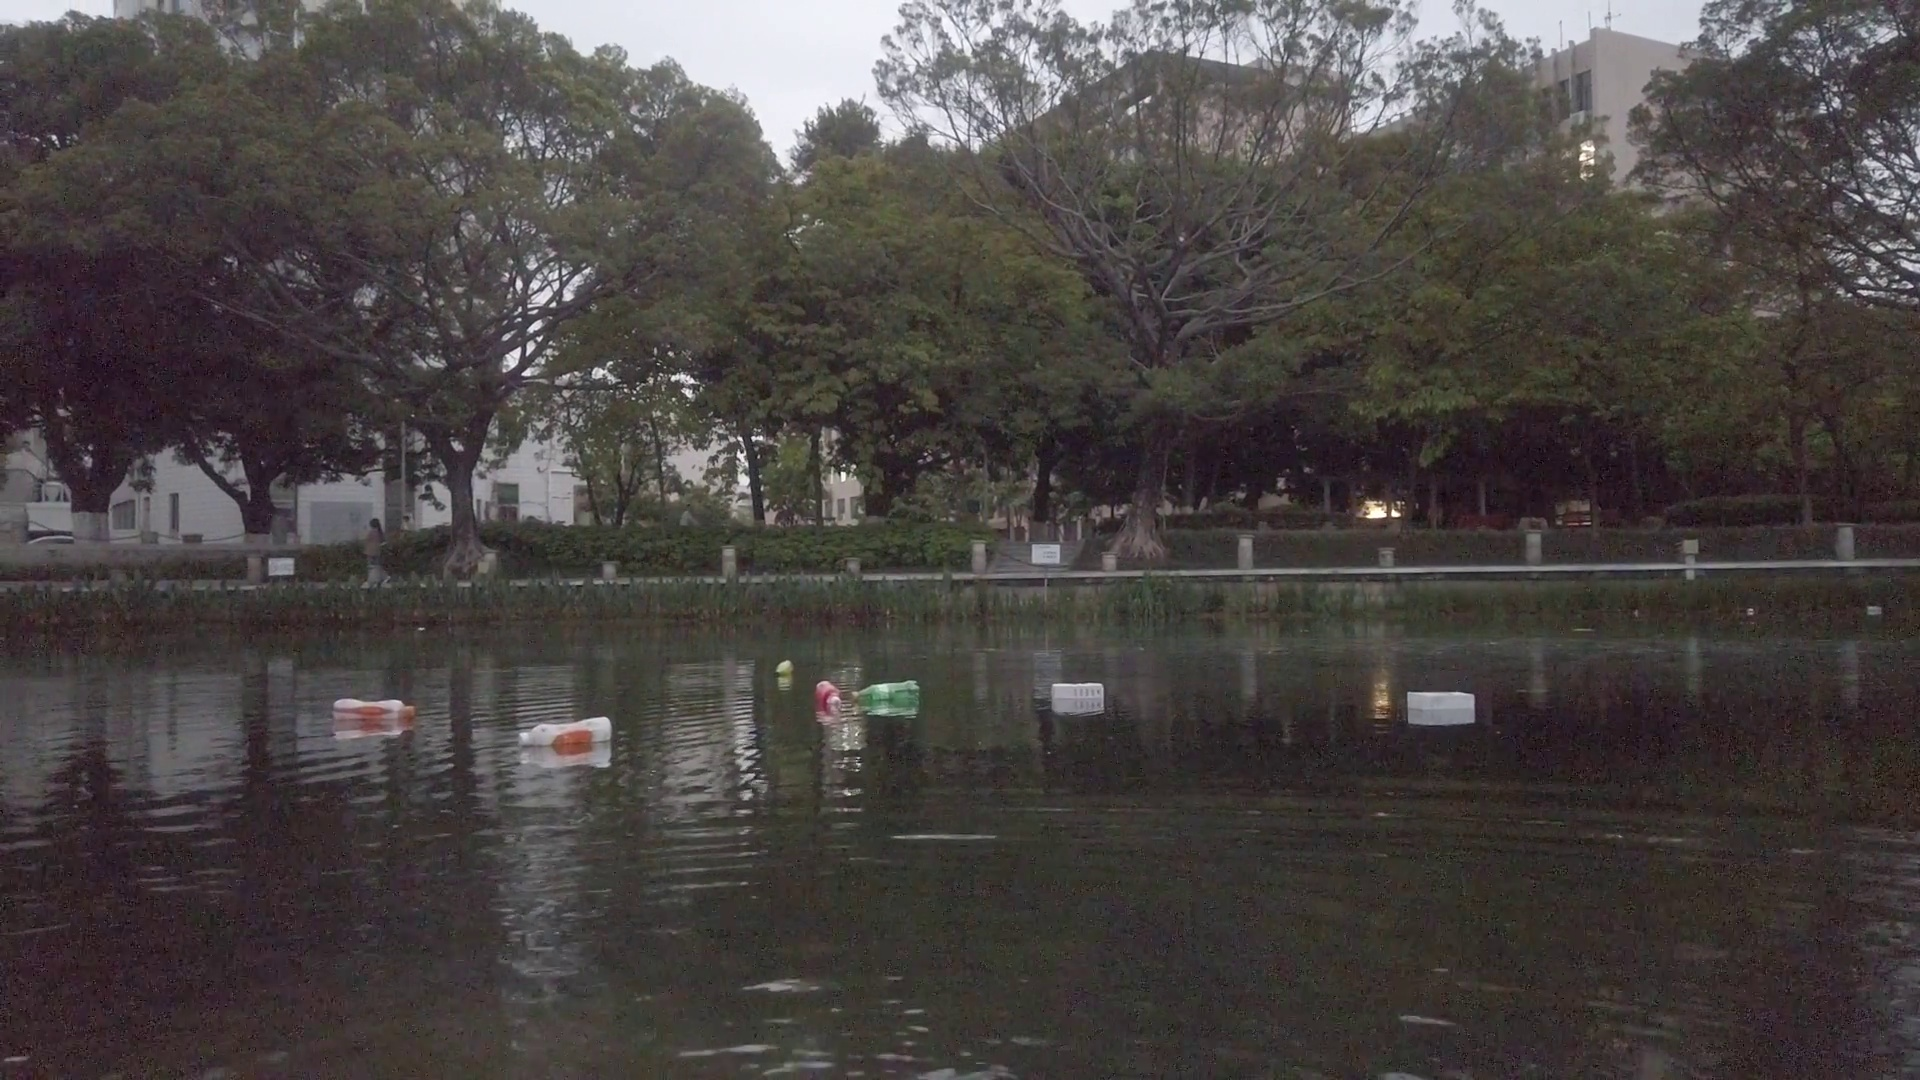bottle: (518, 715, 615, 746), (330, 698, 418, 723), (852, 680, 920, 704), (815, 675, 843, 713), (773, 657, 796, 676)
carton: (1407, 690, 1476, 712), (1050, 682, 1102, 702), (1866, 605, 1883, 613)
